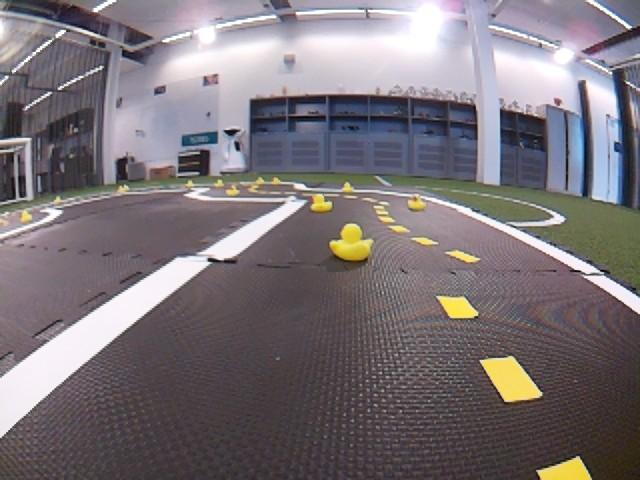Duckies: (329, 223, 371, 261), (309, 195, 331, 211), (408, 195, 426, 210), (19, 210, 32, 222), (226, 185, 239, 195), (343, 183, 355, 193), (215, 179, 225, 187), (54, 196, 62, 204), (272, 177, 281, 184), (185, 180, 194, 186), (256, 177, 263, 183), (118, 186, 125, 192), (123, 185, 129, 190)
